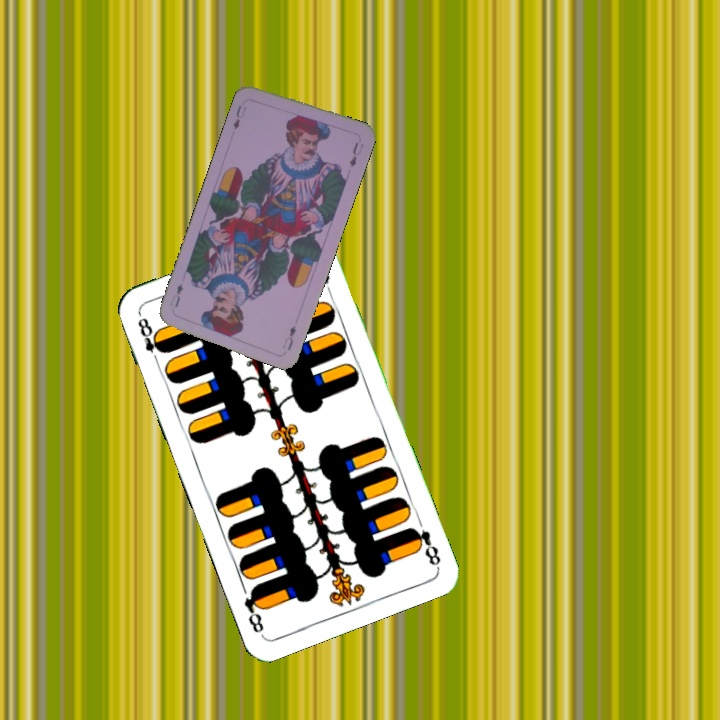E8: (133, 309, 168, 367), (406, 523, 443, 570)
EU: (278, 322, 299, 353), (229, 101, 248, 132)
